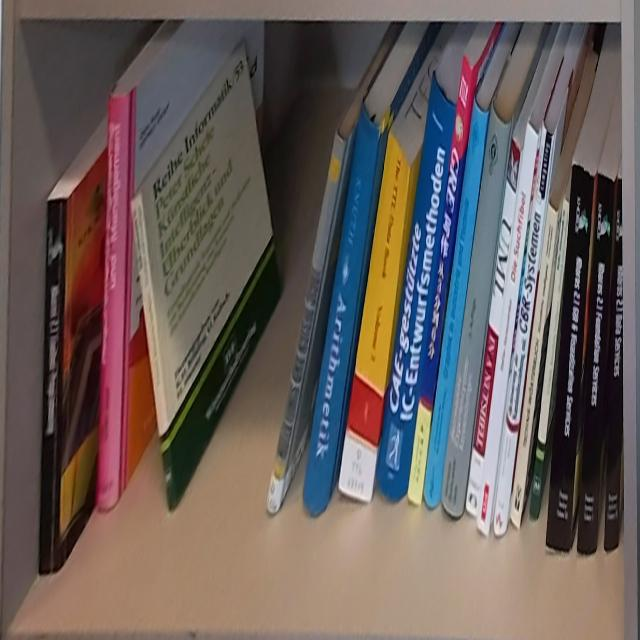Book Spine: (376, 72, 456, 502), (301, 98, 381, 515), (265, 130, 348, 514), (406, 52, 475, 506), (442, 102, 512, 517), (336, 127, 411, 504), (423, 96, 489, 508), (493, 119, 555, 537), (477, 121, 538, 537), (465, 137, 521, 515), (545, 162, 596, 555), (510, 201, 559, 532), (96, 90, 134, 510), (131, 193, 176, 513), (578, 169, 615, 555), (529, 197, 571, 518), (38, 199, 68, 575), (604, 176, 623, 551)
